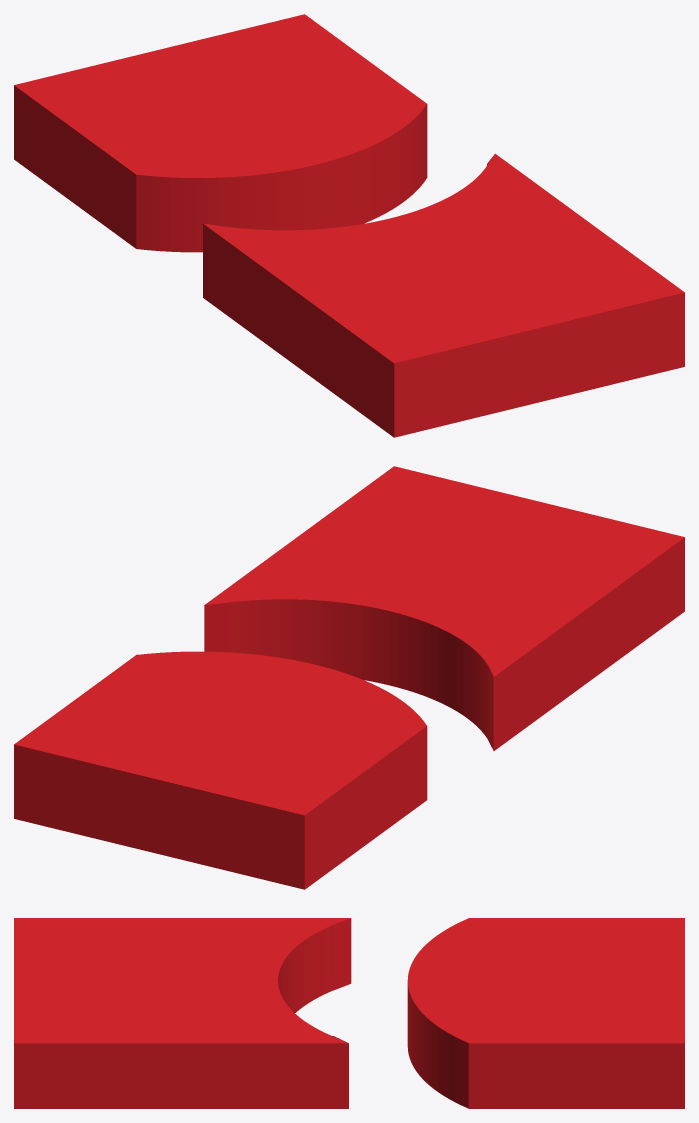
The model's file is CurvedWall.fbx.
The picture shows the model from 3 angles, top to bottom: view 1: azimuth 30°, elevation 25°; view 2: azimuth 150°, elevation 25°; view 3: azimuth 270°, elevation 25°; orthographic projection. The views are drawn at different scales.
Visible parts, largest first — view 1: RightBend, LeftBend, Cube, Cube.001; view 2: LeftBend, Cube.001, RightBend, Cube; view 3: LeftBend, RightBend, Cube.001, Cube.
Part boxes in pixels (bbox=[...]): RightBend: bbox=[65, 53, 427, 252]; LeftBend: bbox=[203, 153, 635, 401]; Cube: bbox=[342, 256, 684, 437]; Cube.001: bbox=[14, 14, 356, 196]; LeftBend: bbox=[204, 502, 635, 750]; Cube.001: bbox=[14, 706, 356, 889]; RightBend: bbox=[67, 651, 427, 851]; Cube: bbox=[345, 466, 684, 646]; LeftBend: bbox=[101, 918, 351, 1108]; RightBend: bbox=[407, 918, 593, 1108]; Cube.001: bbox=[592, 918, 684, 1108]; Cube: bbox=[14, 918, 106, 1108].
Bounding box in the file's own units: 2456 × 600 × 5561.
